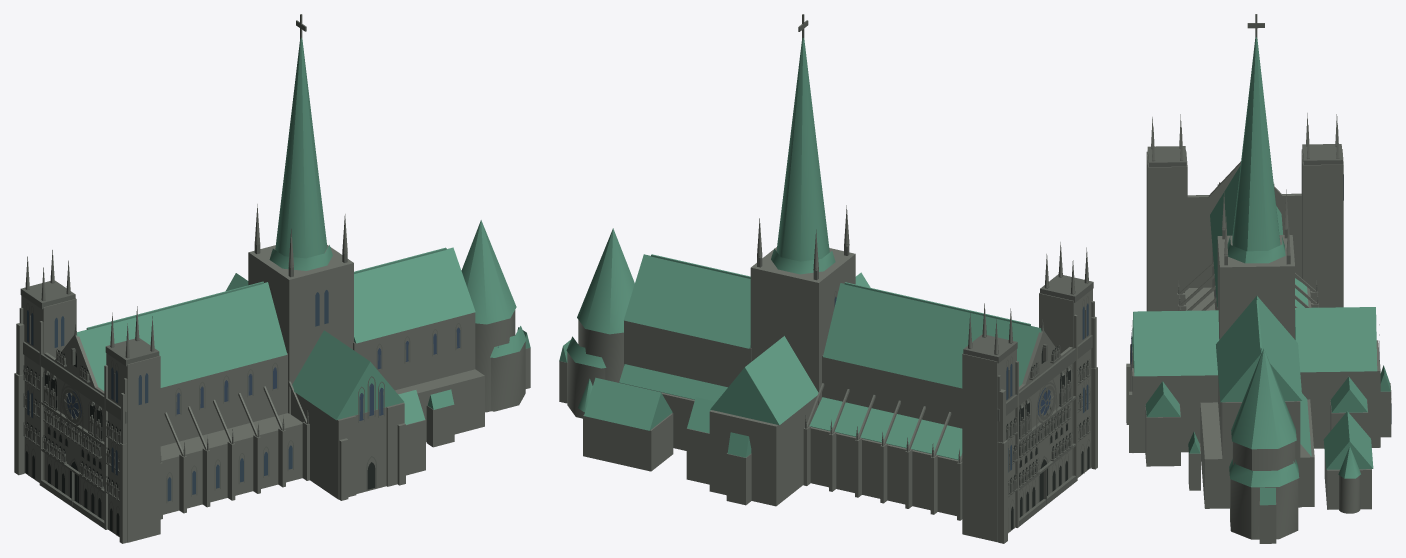
Rendered from nidaros-cathedral-far.glb.
The picture shows the model from 3 angles, left to right: view 1: azimuth 30°, elevation 25°; view 2: azimuth 150°, elevation 25°; view 3: azimuth 270°, elevation 25°; orthographic projection. The views are drawn at different scales.
Parts seen in each view (by area): view 1: nidaros-cathedral-0-stone, nidaros-cathedral-0-roof, nidaros-cathedral-0-trim, nidaros-cathedral-0-spire, nidaros-cathedral-0-recess, nidaros-cathedral-0-glass, nidaros-cathedral-0-glow; view 2: nidaros-cathedral-0-stone, nidaros-cathedral-0-roof, nidaros-cathedral-0-trim, nidaros-cathedral-0-spire, nidaros-cathedral-0-recess; view 3: nidaros-cathedral-0-stone, nidaros-cathedral-0-roof, nidaros-cathedral-0-spire, nidaros-cathedral-0-trim.
Boxes of the visible parts, x1,y1,x2,y2 form: nidaros-cathedral-0-stone: (14, 204, 530, 543); nidaros-cathedral-0-roof: (76, 220, 530, 424); nidaros-cathedral-0-trim: (20, 14, 461, 534); nidaros-cathedral-0-spire: (269, 37, 332, 270); nidaros-cathedral-0-recess: (24, 350, 375, 535); nidaros-cathedral-0-glass: (27, 290, 328, 501); nidaros-cathedral-0-glow: (66, 327, 498, 420); nidaros-cathedral-0-stone: (559, 205, 1097, 543); nidaros-cathedral-0-roof: (559, 228, 1041, 459); nidaros-cathedral-0-trim: (757, 14, 1093, 533); nidaros-cathedral-0-spire: (771, 38, 835, 274); nidaros-cathedral-0-recess: (1006, 346, 1089, 529); nidaros-cathedral-0-stone: (1126, 113, 1391, 543); nidaros-cathedral-0-roof: (1132, 165, 1390, 505); nidaros-cathedral-0-spire: (1227, 37, 1285, 263); nidaros-cathedral-0-trim: (1131, 14, 1379, 416).
Size of the model in its own units: 100 by 87 by 49.81.
